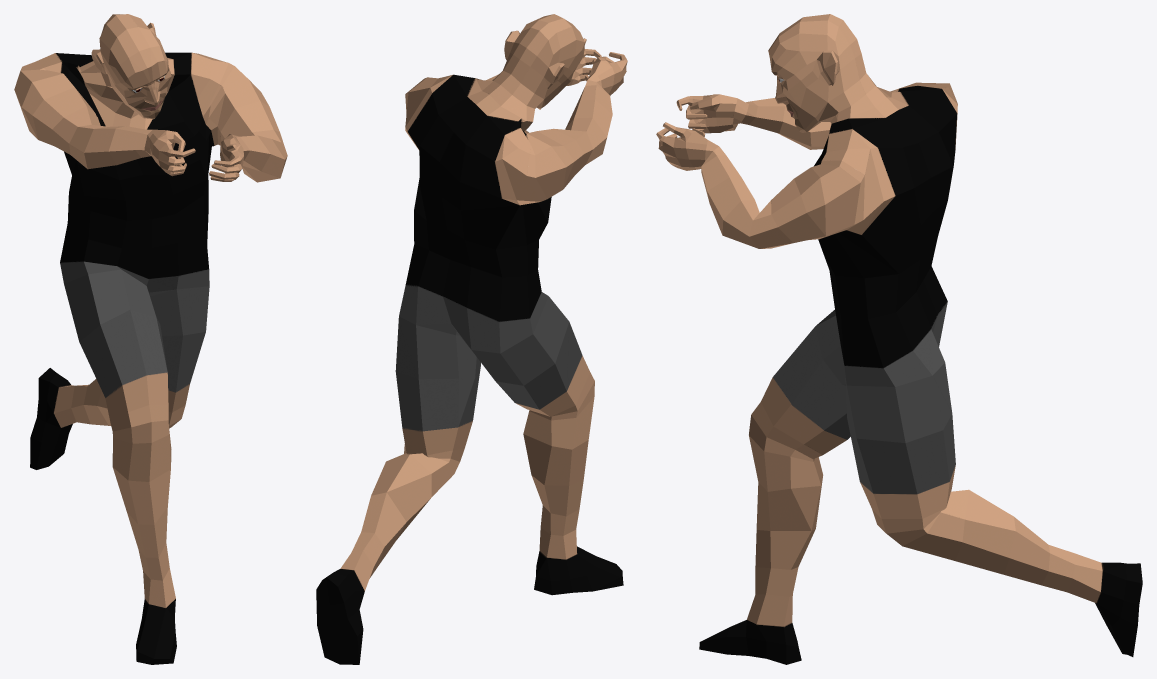
Rendered from PlayerWalk(19).obj.
3 views of the same model, side by side, from view 1: azimuth 30°, elevation 25°; view 2: azimuth 150°, elevation 25°; view 3: azimuth 270°, elevation 25° (orthographic). The views are drawn at different scales.
Visible parts, largest first — view 1: Plane002; view 2: Plane002; view 3: Plane002.
Boxes of the visible parts, left/top/right/bottom form: Plane002: left=14, top=14, right=287, bottom=664; Plane002: left=316, top=14, right=627, bottom=664; Plane002: left=656, top=14, right=1142, bottom=664.
Bounding box in the file's own units: 571 × 1652 × 1139.
